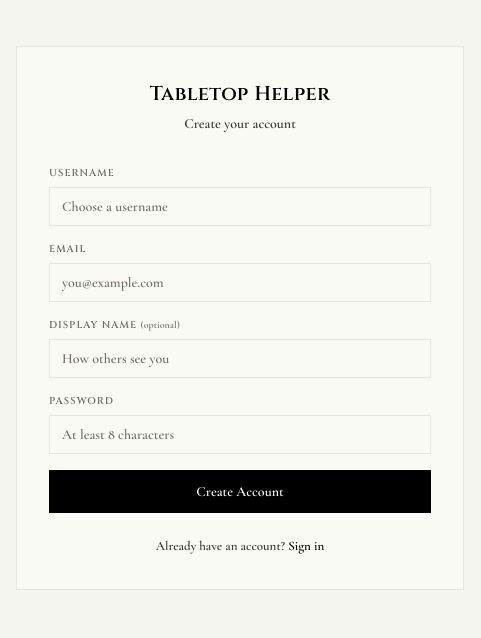
Scenario: RegisterPage › displays error when registration fails
Step 1. Type "takenuser" into the field labelled "Username" → (240, 207), box [49,187,431,226]
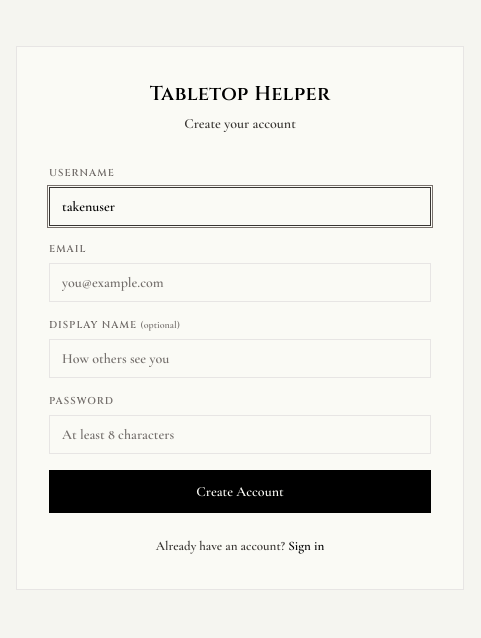
Step 2. Type "taken@test.com" into the field labelled "Email" → (240, 283), box [49,263,431,302]
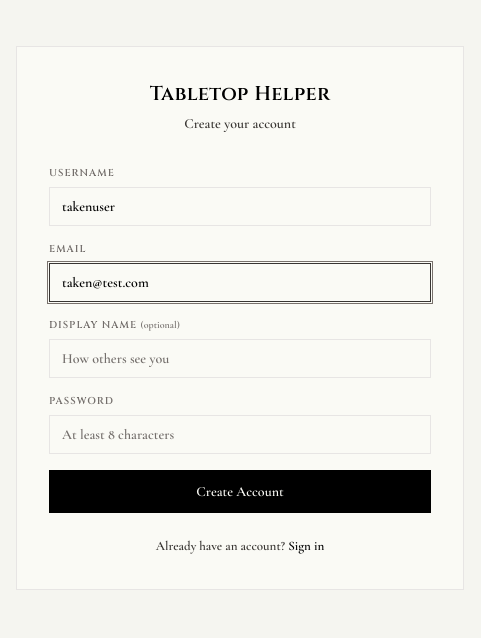
Step 3. Type "password123" into the password field labelled "Password" → (240, 435), box [49,415,431,454]
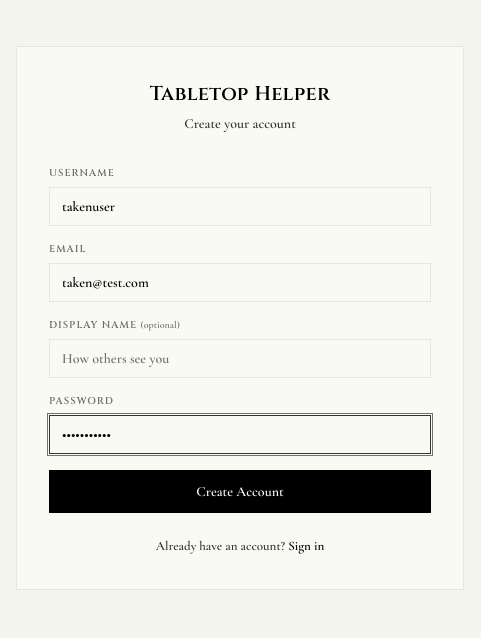
Step 4. Click the button "Create Account" → click(240, 492), box [49,470,431,513]
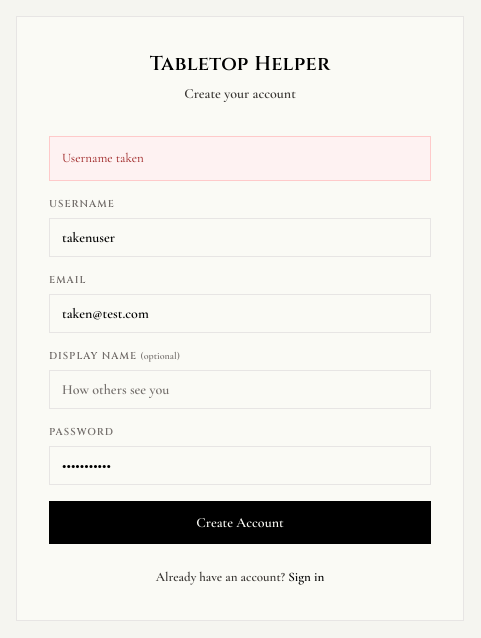
Expected: the message reads "Username taken", [62,150,144,166]
